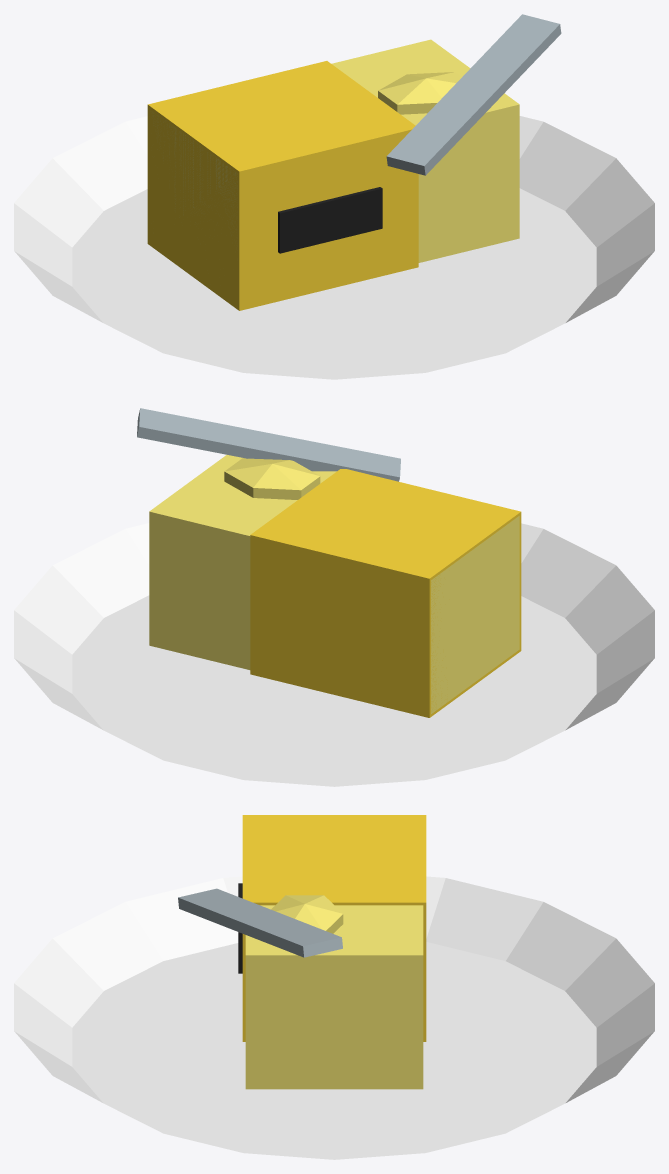
The model's file is smor.glb.
3 views of the same model, one above another, from view 1: azimuth 30°, elevation 25°; view 2: azimuth 150°, elevation 25°; view 3: azimuth 270°, elevation 25° (orthographic).
Visible parts, largest first — view 1: smor; view 2: smor; view 3: smor.
Part boxes in pixels (bbox=[...]): smor: bbox=[14, 14, 654, 379]; smor: bbox=[14, 408, 654, 786]; smor: bbox=[14, 815, 654, 1159].
Size of the model in its own units: 0.44 by 0.1518 by 0.4333.
